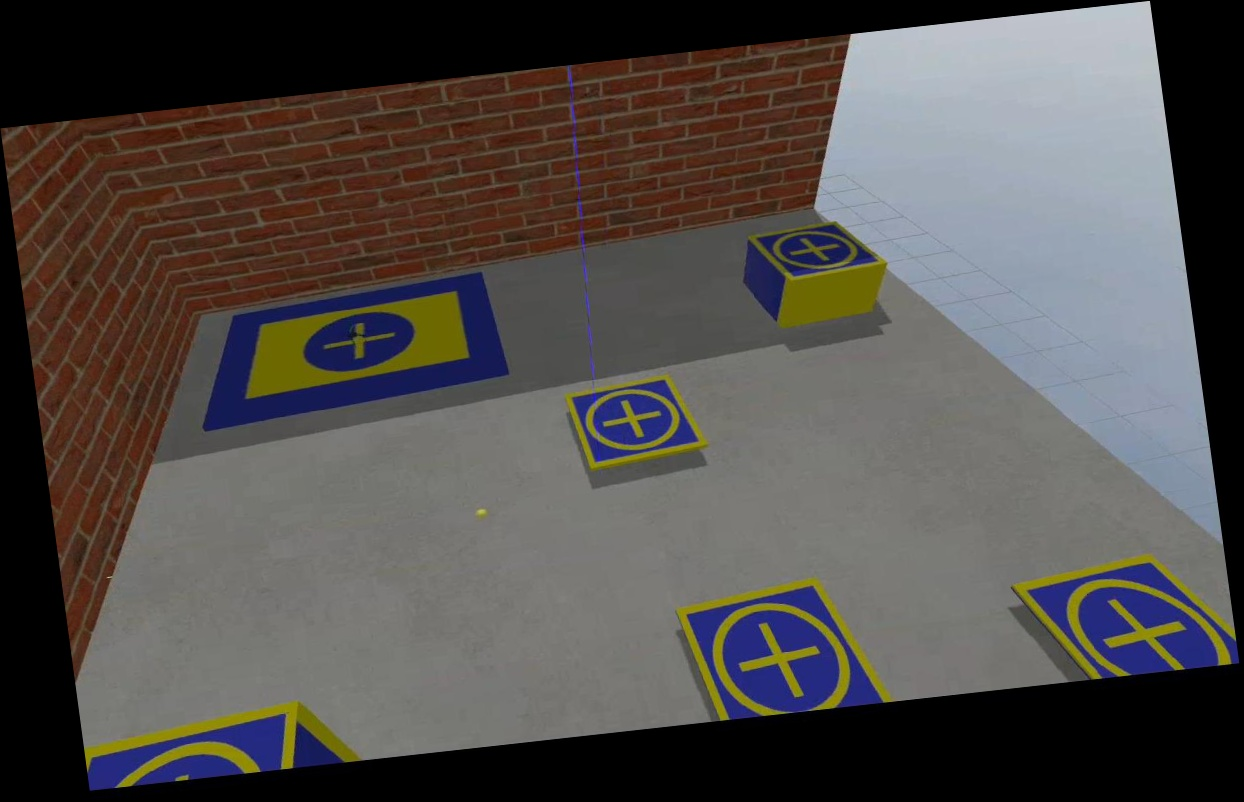large_base: (187, 272, 517, 431)
small_base: (1008, 546, 1237, 697), (676, 569, 891, 728), (81, 700, 324, 793), (563, 372, 712, 472), (747, 217, 889, 290)
